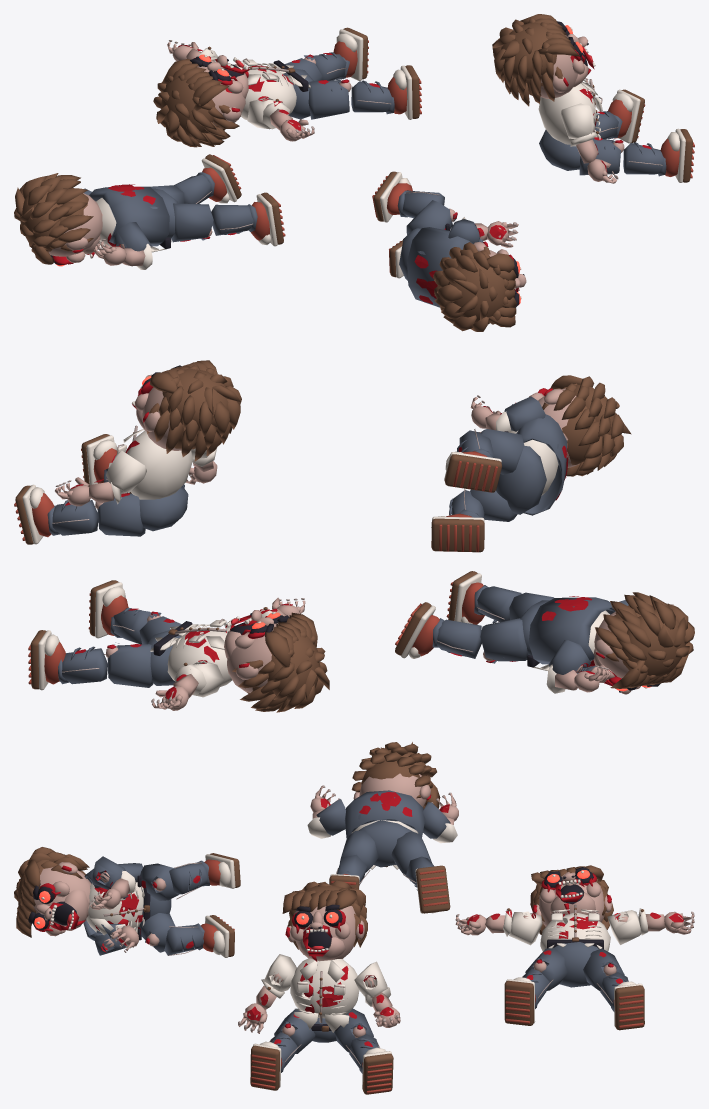
The picture shows the model from 3 angles, top to bottom: view 1: azimuth 30°, elevation 25°; view 2: azimuth 150°, elevation 25°; view 3: azimuth 270°, elevation 25°; orthographic projection. The views are drawn at different scales.
Visible parts, largest first — view 1: onBack__head__surface, sitting__head__surface, curled__head__surface, head__surface, torso__surface, curled__torso__surface, onBack__torso__surface, sitting__torso__surface, onBack__legR__surface, legL__surface, sitting__footR__surface, onBack__footR__surface (+28 smaller); view 2: onBack__head__surface, sitting__head__surface, head__surface, curled__head__surface, torso__surface, sitting__torso__surface, curled__torso__surface, onBack__torso__surface, curled__hip__surface, curled__footL__surface, curled__footR__surface, onBack__legL__surface (+32 smaller); view 3: curled__head__surface, sitting__head__surface, sitting__torso__surface, onBack__head__surface, head__surface, torso__surface, curled__torso__surface, onBack__torso__surface, onBack__hip__surface, onBack__footR__surface, footR__surface, sitting__footR__surface (+26 smaller).
Part boxes in pixels (x1,y1,x2,y2): onBack__head__surface: [153, 54, 249, 147]; sitting__head__surface: [492, 14, 595, 106]; curled__head__surface: [433, 241, 526, 331]; head__surface: [14, 173, 102, 266]; torso__surface: [89, 184, 169, 252]; curled__torso__surface: [407, 223, 482, 307]; onBack__torso__surface: [234, 58, 310, 119]; sitting__torso__surface: [538, 79, 602, 144]; onBack__legR__surface: [308, 77, 351, 119]; legL__surface: [171, 203, 213, 242]; sitting__footR__surface: [660, 128, 694, 182]; onBack__footR__surface: [387, 65, 421, 119]; onBack__head__surface: [224, 610, 329, 712]; sitting__head__surface: [131, 360, 241, 461]; head__surface: [593, 592, 694, 694]; curled__head__surface: [529, 375, 631, 476]; torso__surface: [528, 596, 615, 670]; sitting__torso__surface: [116, 425, 192, 499]; curled__torso__surface: [504, 414, 568, 515]; onBack__torso__surface: [150, 618, 235, 686]; curled__hip__surface: [496, 446, 546, 514]; curled__footL__surface: [444, 451, 502, 492]; curled__footR__surface: [431, 513, 484, 552]; onBack__legL__surface: [106, 642, 153, 687]; curled__head__surface: [14, 847, 91, 937]; sitting__head__surface: [282, 880, 367, 961]; sitting__torso__surface: [290, 958, 359, 1032]; onBack__head__surface: [530, 865, 613, 934]; head__surface: [351, 742, 440, 809]; torso__surface: [344, 790, 425, 869]; curled__torso__surface: [83, 863, 145, 940]; onBack__torso__surface: [540, 904, 610, 951]; onBack__hip__surface: [547, 937, 603, 987]; onBack__footR__surface: [504, 977, 535, 1025]; footR__surface: [415, 865, 450, 913]; sitting__footR__surface: [250, 1041, 282, 1090].
Size of what is drawn, in the model's own units: 4.21 by 1.07 by 4.26.
